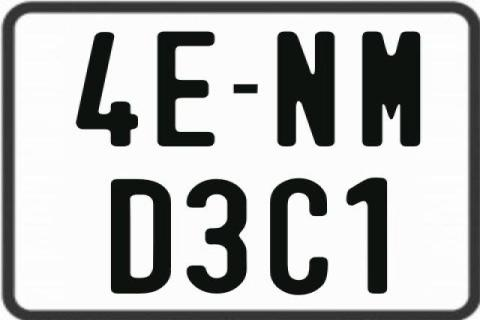0: (74, 30, 139, 150), (186, 178, 252, 294), (346, 176, 387, 294)
C: (269, 179, 333, 297)
D: (111, 177, 177, 293)
E: (156, 29, 219, 149)
M: (360, 29, 419, 150)
N: (275, 30, 338, 148)
